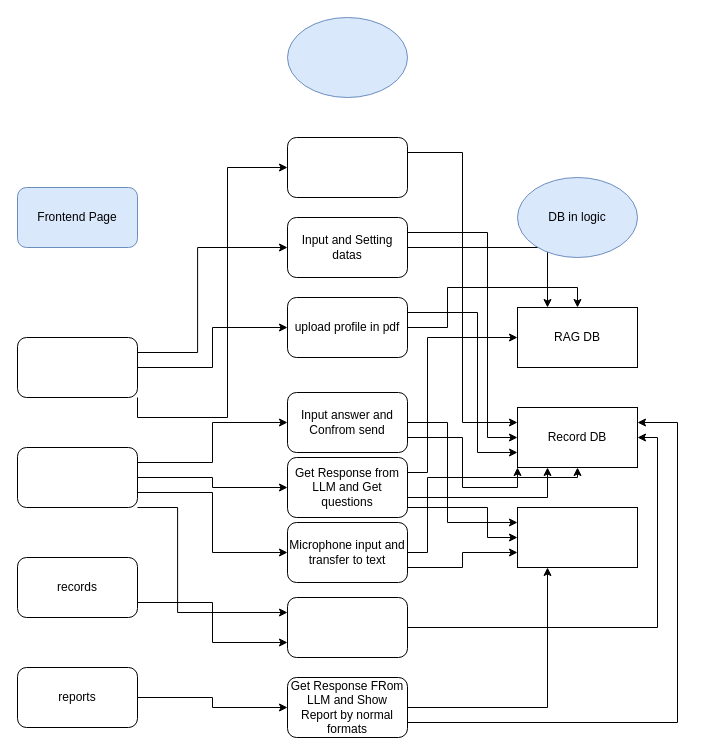
This 703x755 diagram has some shape labels left out. The box of each missing label's shape, as (x1, y1, x2, y2) in pixels:
Backend main Rules: (286, 16, 408, 98)
meetings: (16, 446, 138, 508)
Q/A DB: (516, 506, 638, 568)
Save and Show Record in DB: (286, 596, 408, 658)
Settings: (16, 336, 138, 398)
Summary from Profile: (286, 136, 408, 198)
